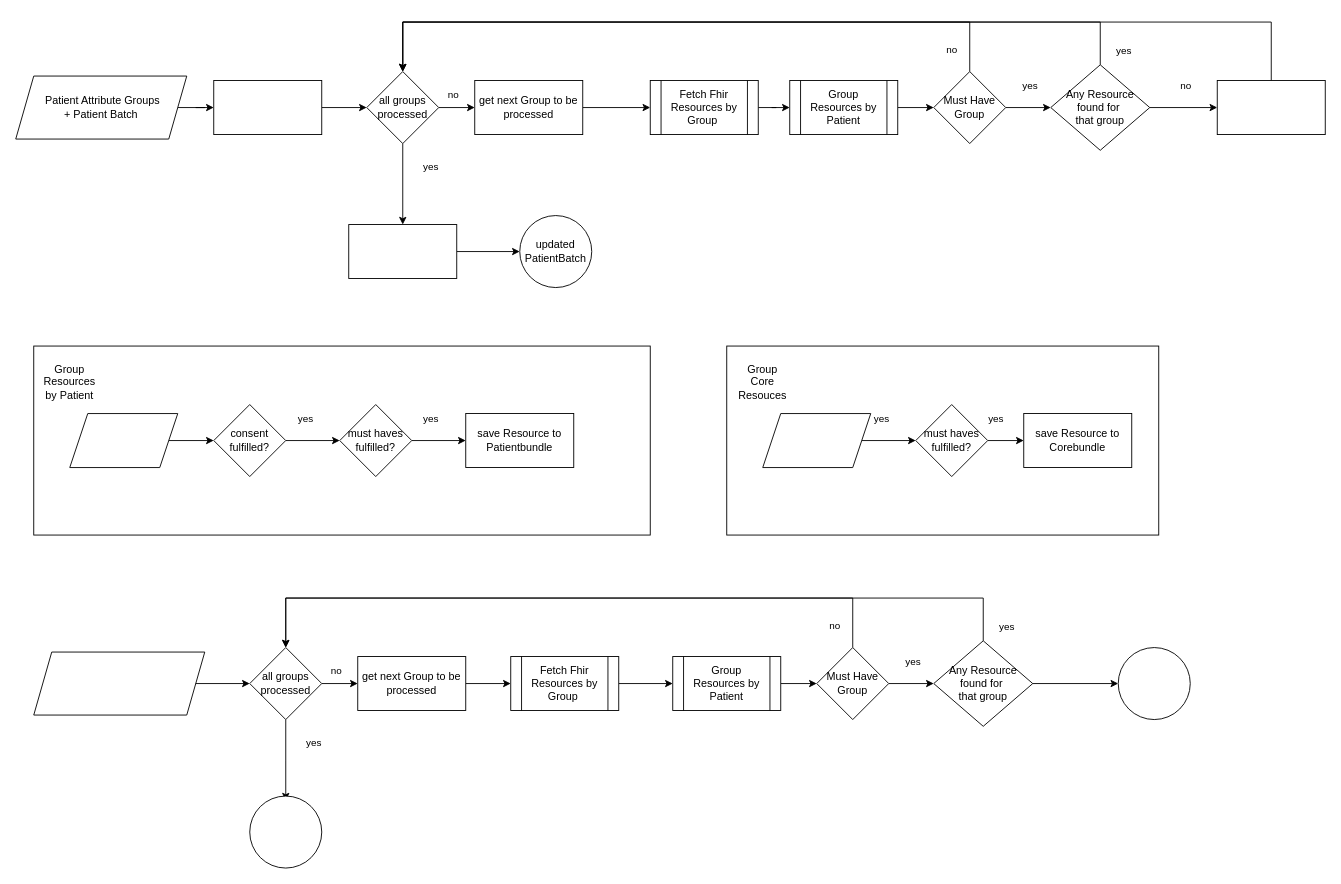
The diagram is 1341 pixels wide and 884 high, and some of its shapes have lost their labels. The centre of each missing label's shape, as x and y in pixels:
"Core Attribute Groups + Core Bundle" goes at (x=119, y=683).
"Core Resource" goes at (x=816, y=440).
"Initialize Safe Set from Batch" goes at (x=267, y=107).
"Patient Resource" goes at (x=123, y=440).
"Remove All Patients not in Safe Set and their resources" goes at (x=402, y=251).
"Remove Patient from Safe Set" goes at (x=1270, y=107).
"Throw Must Have Violation" goes at (x=1153, y=683).
"updated CoreBundle" goes at (x=285, y=831).
